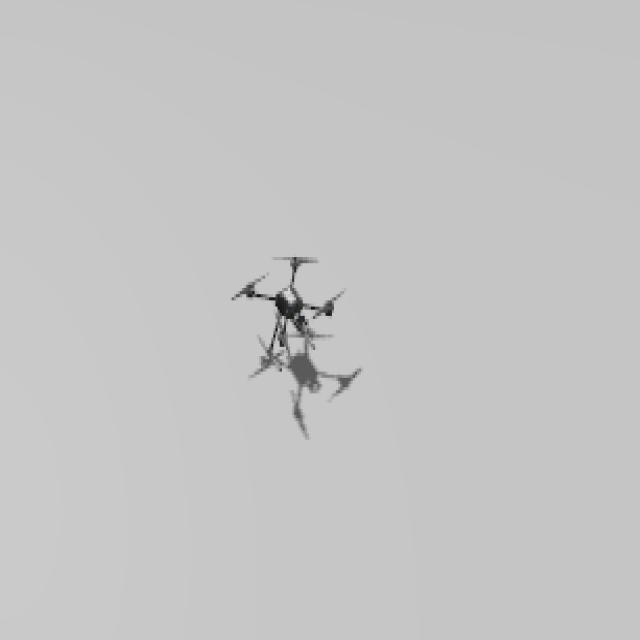drone: (225, 251, 348, 366)
